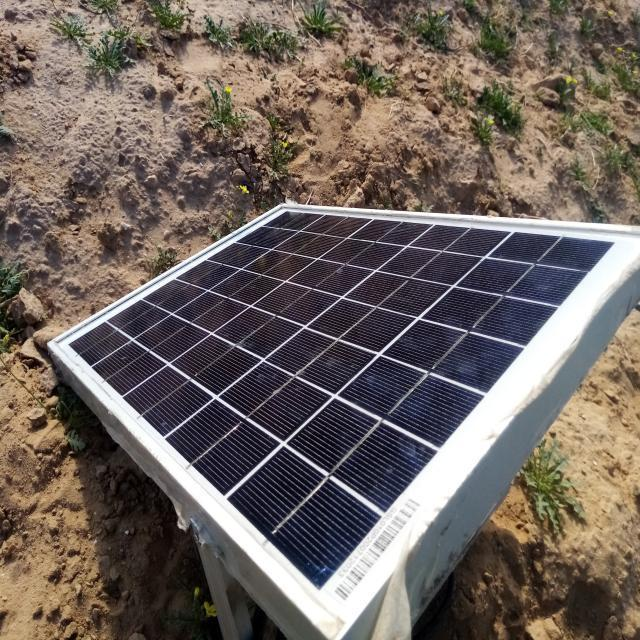Normal Solar Panel: (55, 205, 640, 632)
